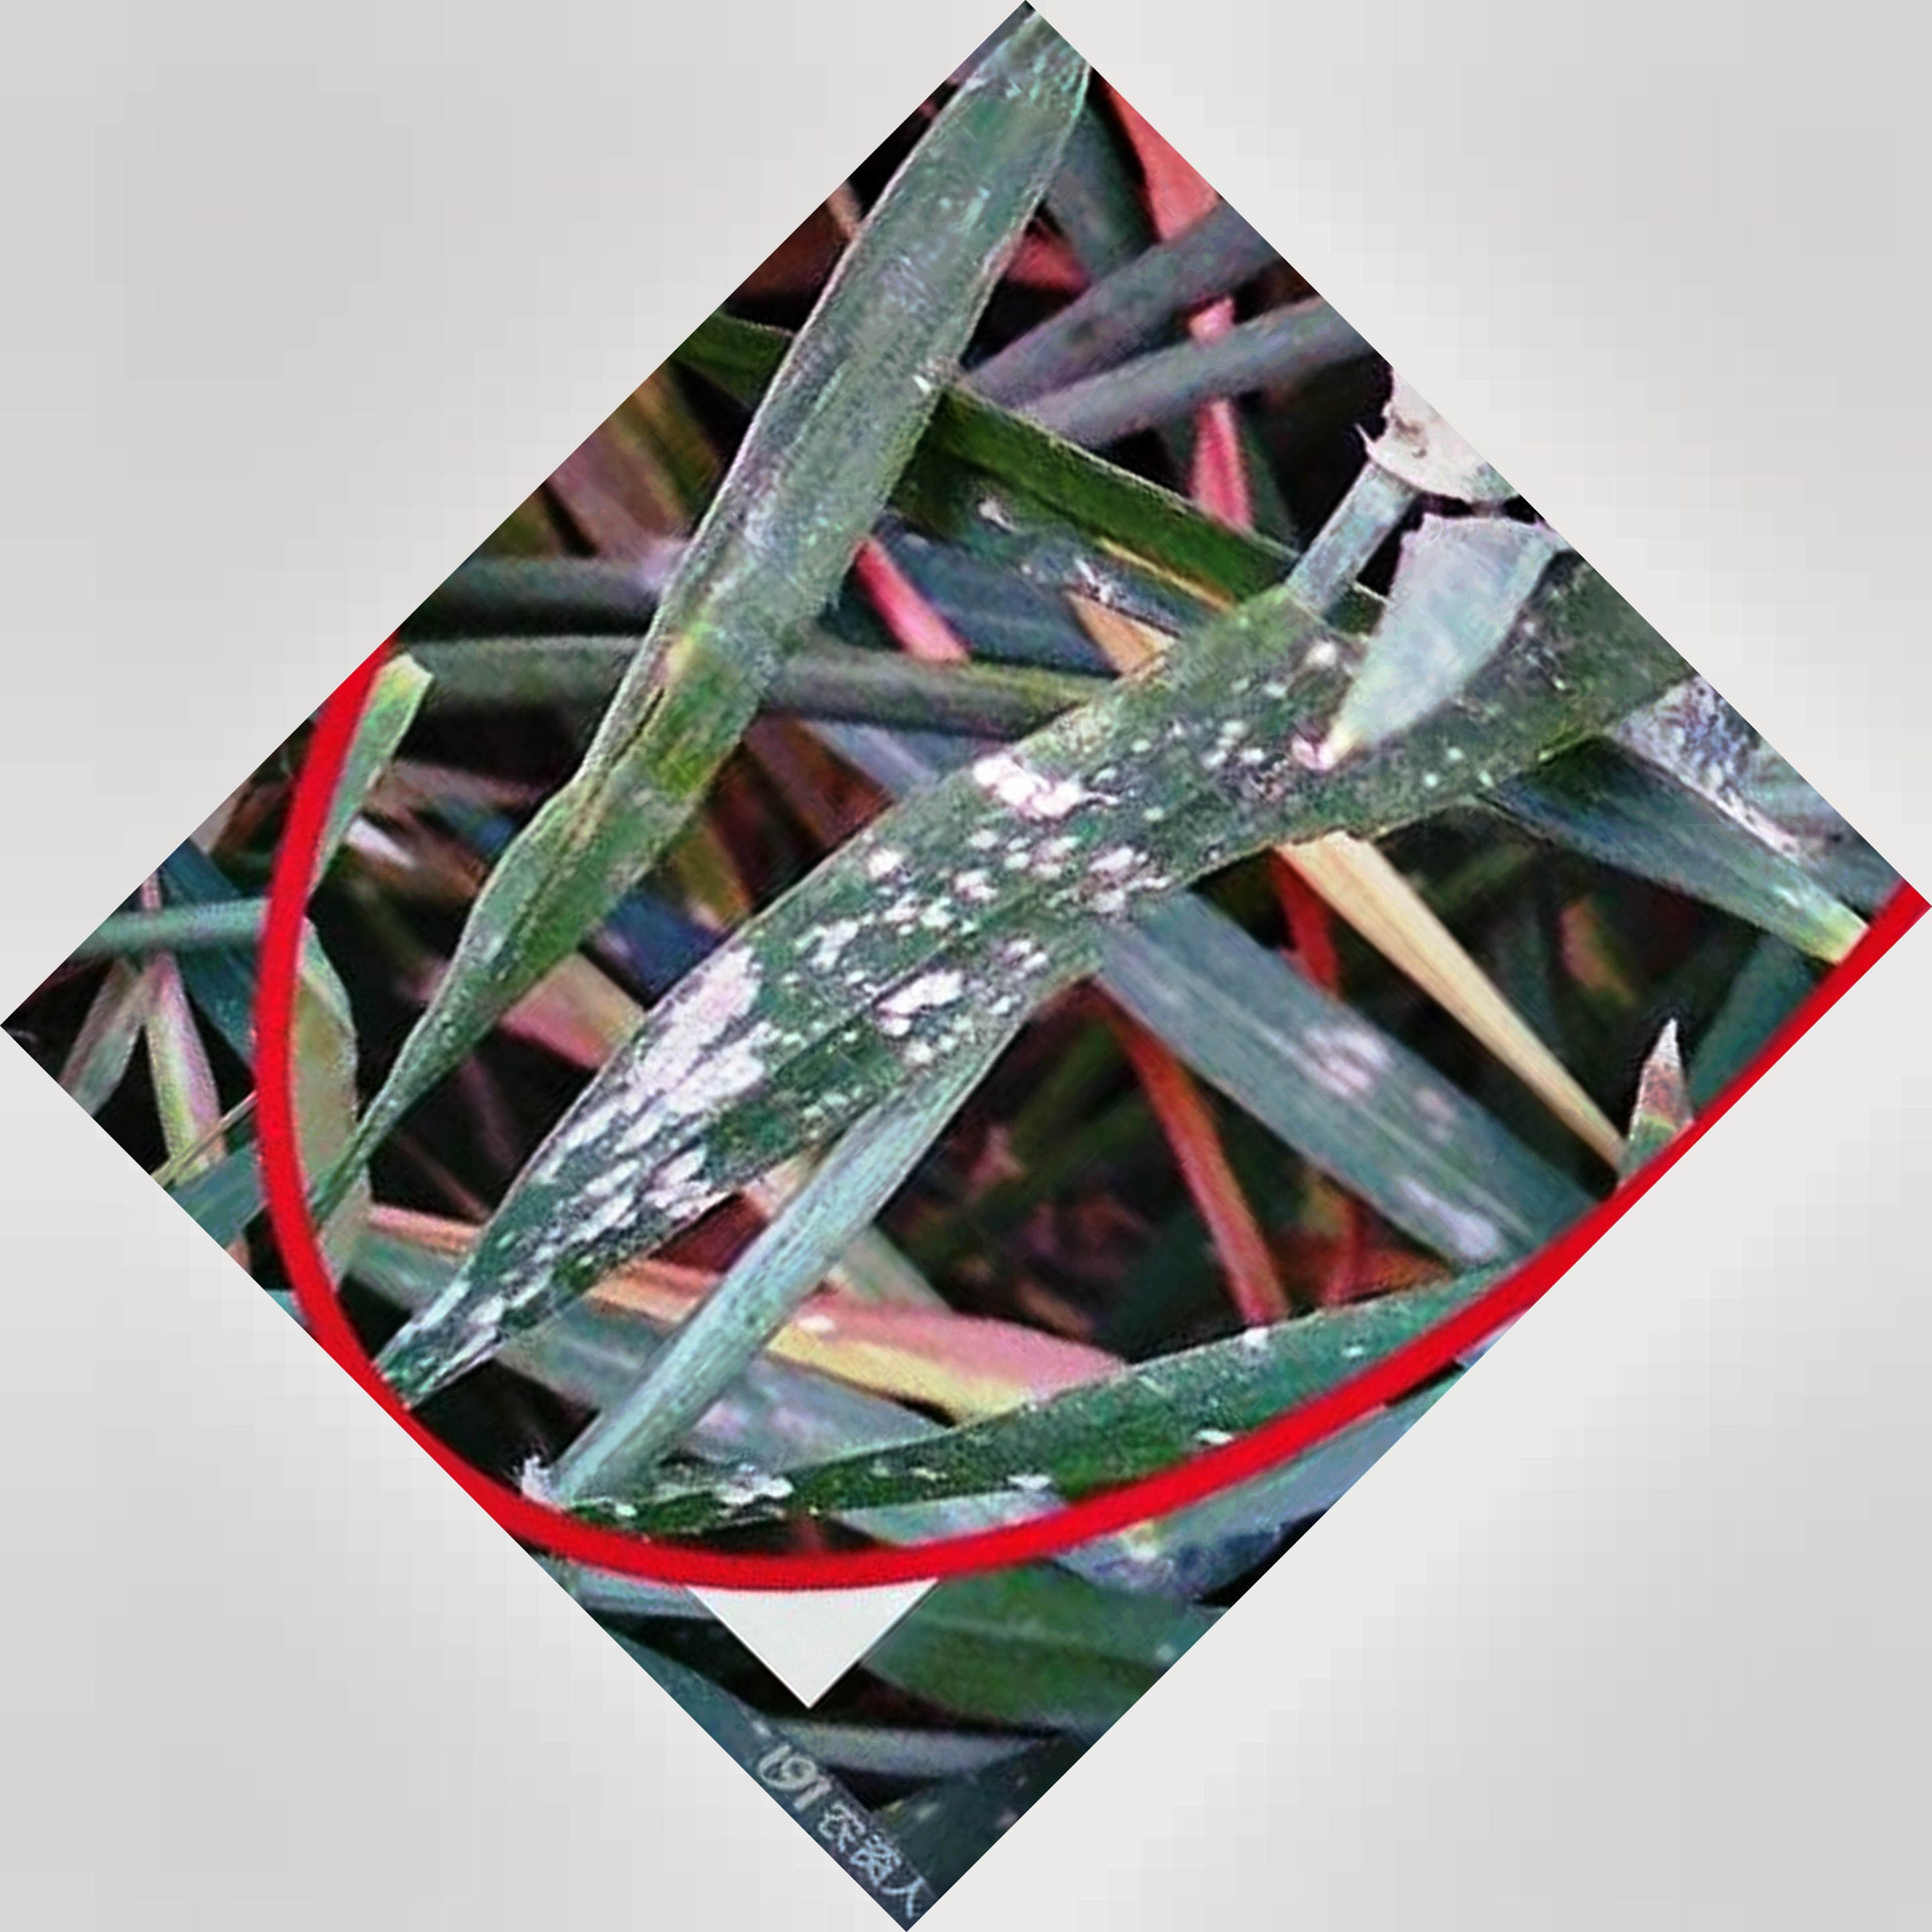Powdery Mildew: (442, 628, 1330, 1366)
